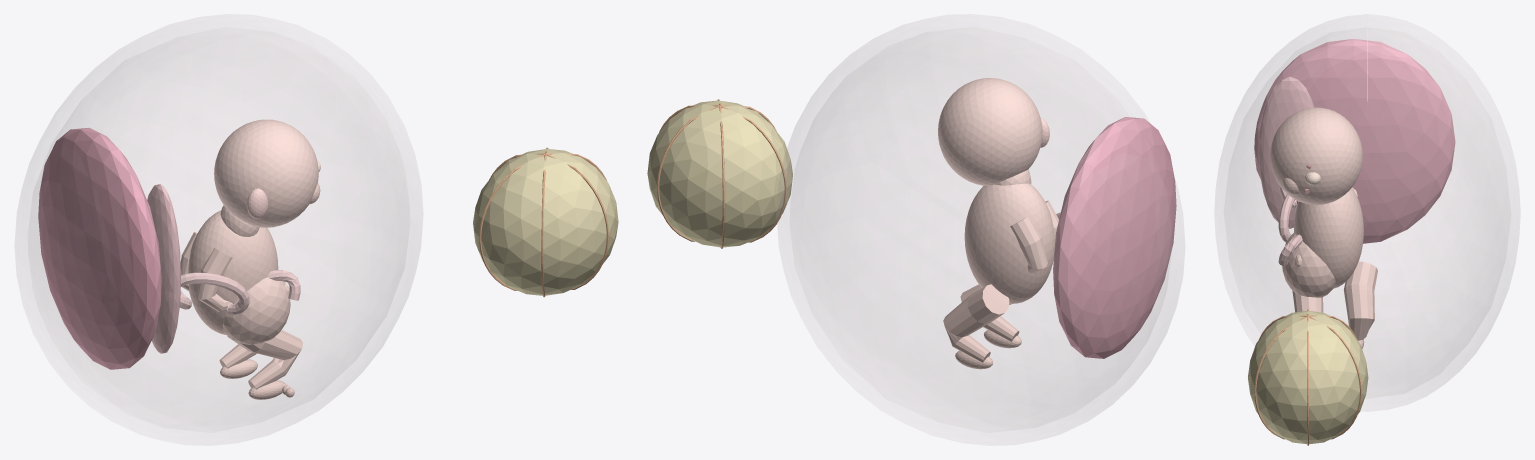
File: hafta_34.glb
3 renders of one model, left to right at view 1: azimuth 30°, elevation 25°; view 2: azimuth 150°, elevation 25°; view 3: azimuth 270°, elevation 25°, orthographic. The views are drawn at different scales.
Visible parts, largest first — view 1: Gebelik_kesesi_dis_zar_26, Plasenta_gelisen_doku_28, Meyve_Kavun_30, Bas_1, Gogus_govde_2, Plasenta_yumusak_yuzey_29, Gobel_ve_karin_3, Bacak_on_18, Gobek_kordonu_ogretici_24, Kol_on_11; view 2: Gebelik_kesesi_dis_zar_26, Plasenta_gelisen_doku_28, Meyve_Kavun_30, Bas_1, Gogus_govde_2, Bacak_arka_16, Kol_on_arka_9, Bacak_on_18; view 3: Gebelik_kesesi_dis_zar_26, Plasenta_gelisen_doku_28, Meyve_Kavun_30, Bas_1, Gogus_govde_2, Plasenta_yumusak_yuzey_29, Gobel_ve_karin_3, Bacak_arka_16, Gobek_kordonu_ogretici_24, Bacak_on_18, Meyve_desen_cizgisi_36, Meyve_desen_cizgisi_32.
Part boxes in pixels (x1,y1,x2,y2): Gebelik_kesesi_dis_zar_26: [15, 14, 422, 445]; Plasenta_gelisen_doku_28: [38, 127, 161, 369]; Meyve_Kavun_30: [473, 149, 618, 295]; Bas_1: [214, 119, 318, 227]; Gogus_govde_2: [188, 210, 278, 334]; Plasenta_yumusak_yuzey_29: [147, 184, 181, 353]; Gobel_ve_karin_3: [223, 277, 290, 344]; Bacak_on_18: [227, 330, 303, 389]; Gobek_kordonu_ogretici_24: [179, 270, 300, 314]; Kol_on_11: [196, 248, 232, 312]; Gebelik_kesesi_dis_zar_26: [777, 14, 1184, 445]; Plasenta_gelisen_doku_28: [1053, 117, 1176, 358]; Meyve_Kavun_30: [647, 100, 792, 247]; Bas_1: [938, 78, 1042, 185]; Gogus_govde_2: [964, 183, 1054, 303]; Bacak_arka_16: [943, 284, 1009, 362]; Kol_on_arka_9: [1010, 216, 1047, 273]; Bacak_on_18: [960, 284, 1019, 341]; Gebelik_kesesi_dis_zar_26: [1215, 14, 1519, 411]; Plasenta_gelisen_doku_28: [1254, 39, 1455, 243]; Meyve_Kavun_30: [1248, 311, 1368, 444]; Bas_1: [1270, 107, 1362, 204]; Gogus_govde_2: [1294, 188, 1363, 288]; Plasenta_yumusak_yuzey_29: [1258, 76, 1314, 228]; Gobel_ve_karin_3: [1282, 232, 1335, 297]; Bacak_arka_16: [1344, 261, 1377, 340]; Gobek_kordonu_ogretici_24: [1278, 186, 1302, 265]; Bacak_on_18: [1292, 290, 1323, 312]; Meyve_desen_cizgisi_36: [1308, 315, 1361, 439]; Meyve_desen_cizgisi_32: [1254, 315, 1307, 439].
Size of the model in its own units: 11.45 by 8.1 by 6.2.
